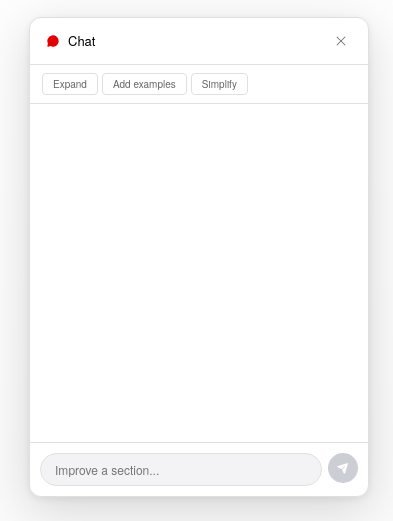
Scenario: ChatPanel › click X closes panel
The image size is (393, 521).
Click the button with test id "chat-close-btn".
click(341, 41)  # box [330,30,352,52]
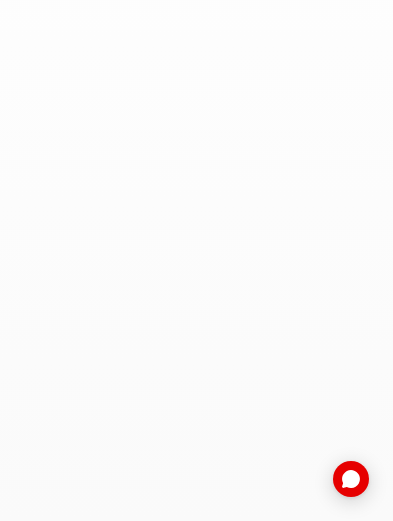
Now the element with test id "chat-panel" is gone
Now the element with test id "chat-fab" is shown, box [333,461,369,497]
